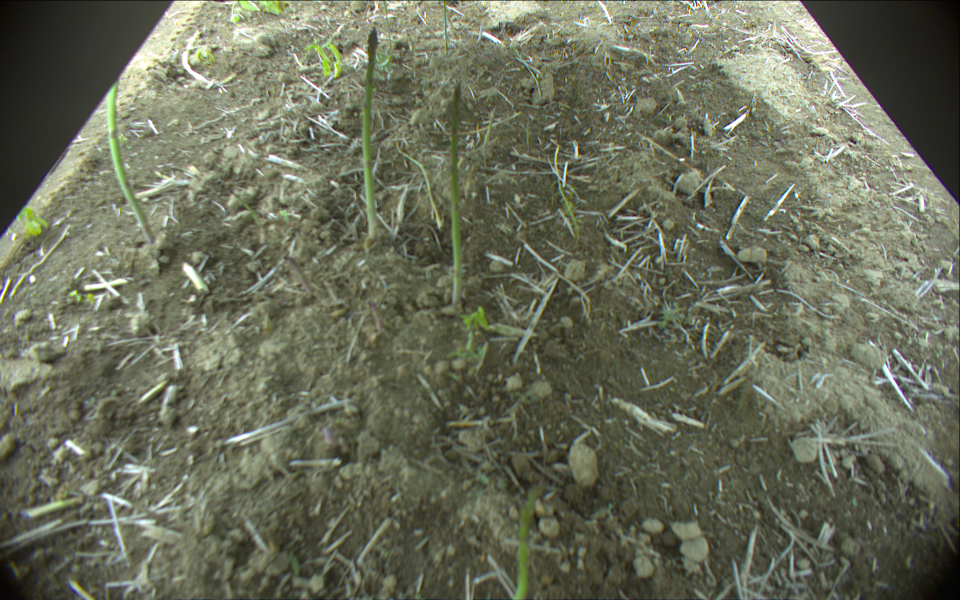aspa: (105, 80, 155, 243), (358, 27, 381, 234), (449, 84, 468, 307), (513, 484, 544, 600), (381, 1, 393, 56), (440, 1, 451, 55)
